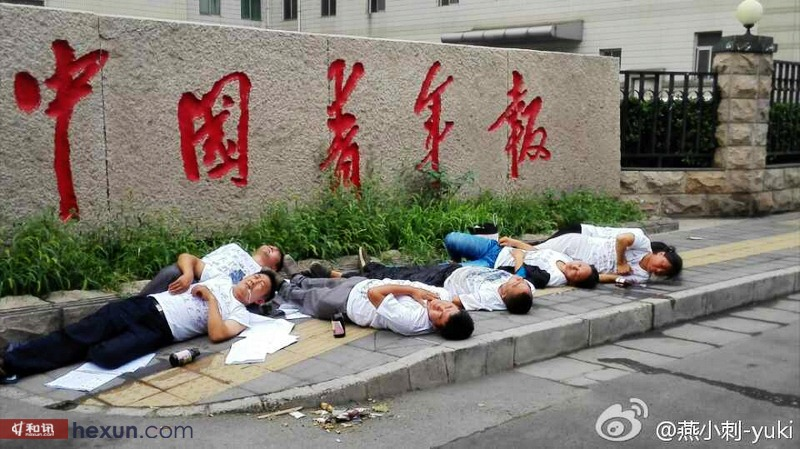fall: (435, 222, 602, 305)
